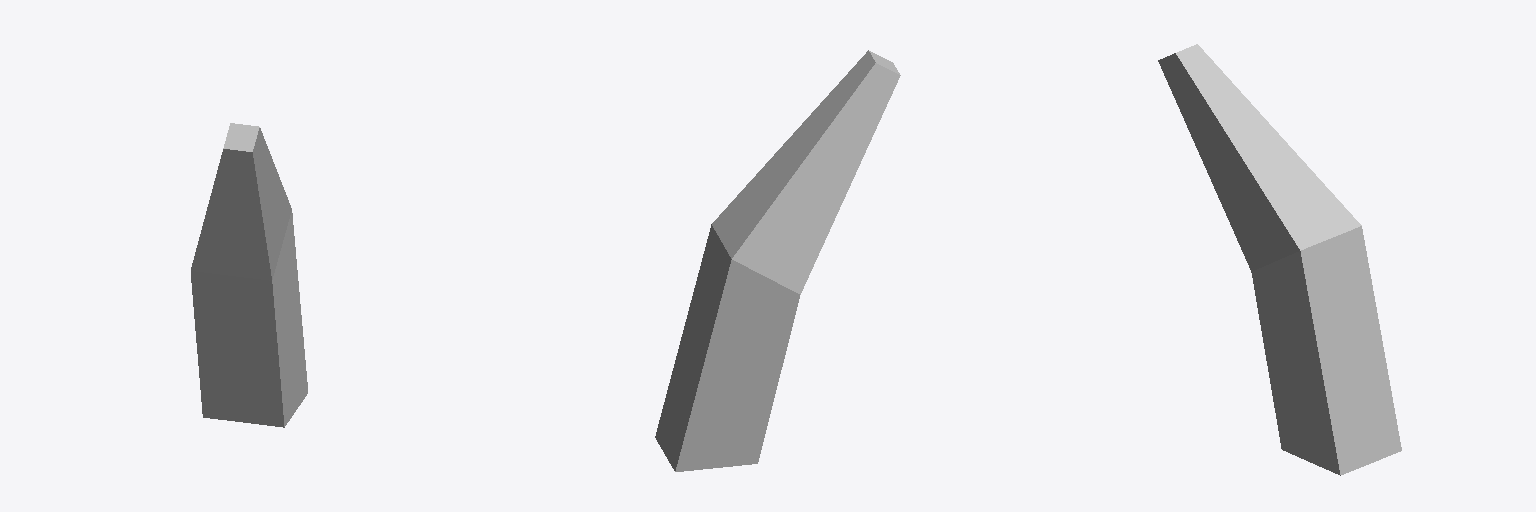
The model's file is small_grass.obj.
3 renders of one model, left to right at view 1: azimuth 30°, elevation 25°; view 2: azimuth 150°, elevation 25°; view 3: azimuth 270°, elevation 25°, orthographic.
Parts seen in each view (by area): view 1: Grass_1_Cube.002; view 2: Grass_1_Cube.002; view 3: Grass_1_Cube.002.
Boxes of the visible parts, x1=… form: Grass_1_Cube.002: x1=191, y1=123, x2=307, y2=427; Grass_1_Cube.002: x1=655, y1=50, x2=900, y2=471; Grass_1_Cube.002: x1=1158, y1=44, x2=1401, y2=475.
Size of the model in its own units: 0.0965 by 0.2001 by 0.1234.